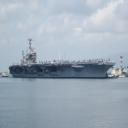Portanaves: (9, 36, 117, 80)
